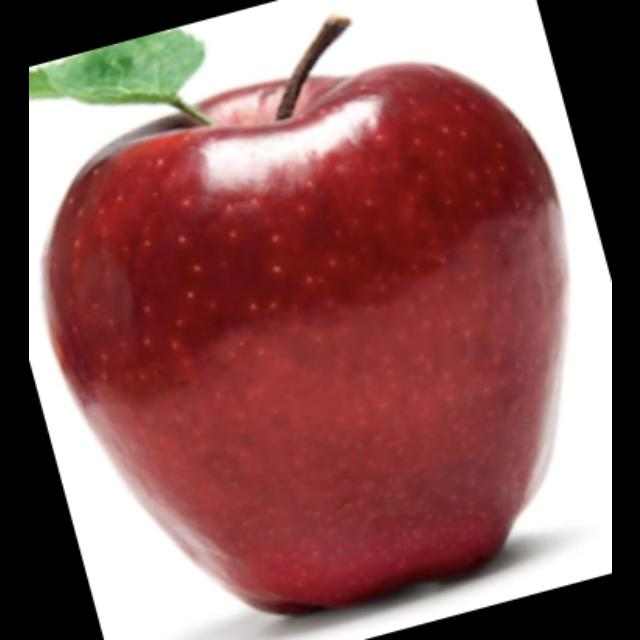Apel Segar: (41, 91, 596, 605)
